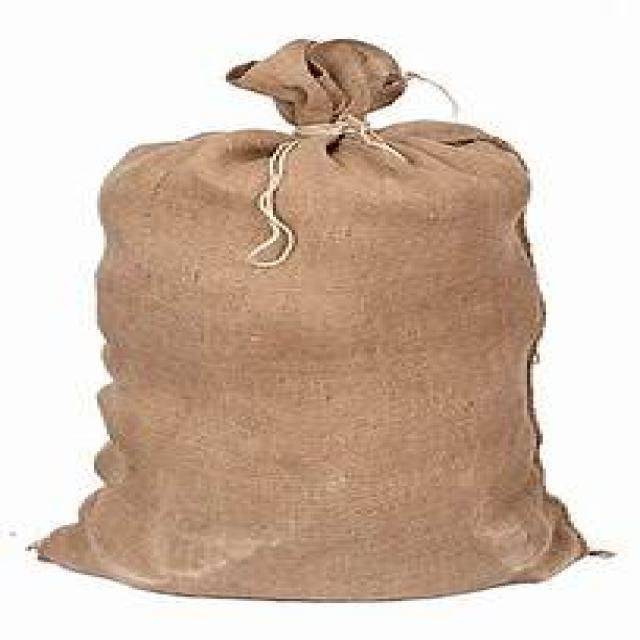gunny_bag: (29, 34, 610, 606)
